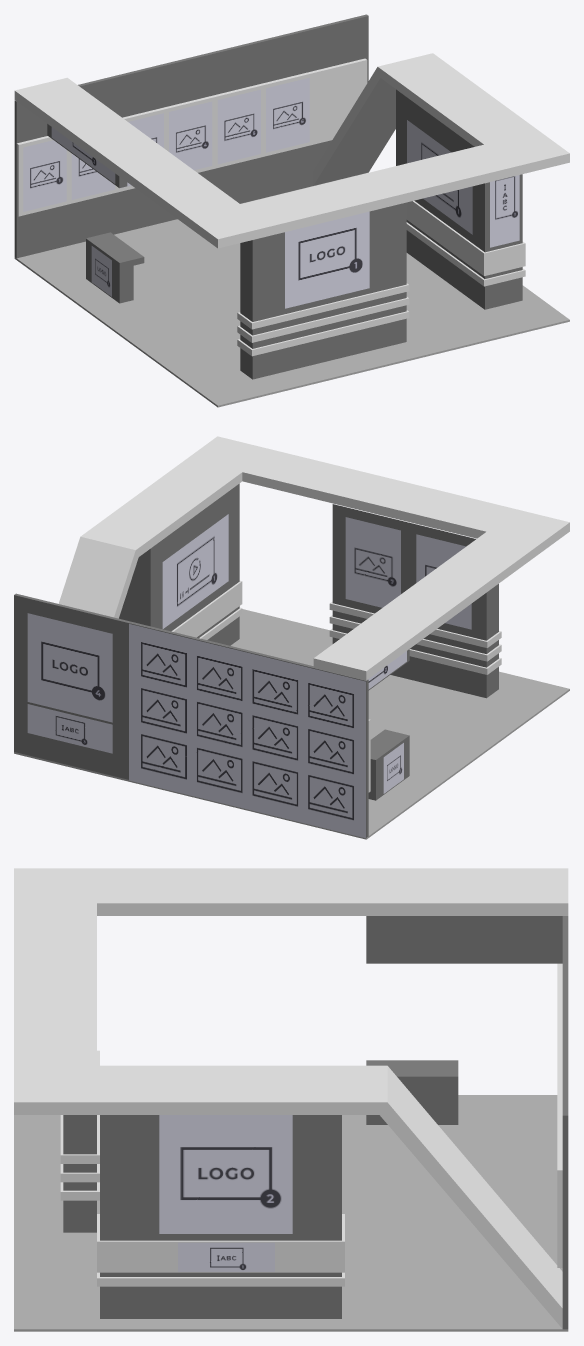
File: stant65.gltf
3 views of the same model, one above another, from view 1: azimuth 30°, elevation 25°; view 2: azimuth 150°, elevation 25°; view 3: azimuth 270°, elevation 25° (orthographic). The views are drawn at different scales.
Parts seen in each view (by area): view 1: modrenk1, modrenk2, modzemin, modlogo1, moddikgorsel6, moddikgorsel5, moddikgorsel1, moddikgorsel4, modvideo1, moddikyazi1, moddikgorsel2, modlogo3 (+2 smaller); view 2: modrenk1, modgenisgorsel, modrenk2, modzemin, modlogo4, modvideo1, moddikgorsel7, modyazi3, moddikgorsel8, modlogo3; view 3: modrenk1, modzemin, modrenk2, modlogo2, modyazi1.
Part boxes in pixels (x1=…): modrenk1: x1=14, y1=53, x2=569, y2=356; modrenk2: x1=14, y1=14, x2=522, y2=379; modzemin: x1=14, y1=172, x2=569, y2=407; modlogo1: x1=285, y1=211, x2=369, y2=308; moddikgorsel6: x1=266, y1=77, x2=309, y2=152; moddikgorsel5: x1=217, y1=89, x2=260, y2=164; moddikgorsel1: x1=23, y1=140, x2=66, y2=211; moddikgorsel4: x1=169, y1=101, x2=212, y2=170; modvideo1: x1=407, y1=120, x2=472, y2=234; moddikyazi1: x1=490, y1=175, x2=519, y2=247; moddikgorsel2: x1=71, y1=153, x2=115, y2=199; modlogo3: x1=91, y1=246, x2=111, y2=296; modrenk1: x1=58, y1=436, x2=569, y2=792; modgenisgorsel: x1=129, y1=624, x2=365, y2=838; modrenk2: x1=14, y1=483, x2=498, y2=837; modzemin: x1=14, y1=609, x2=569, y2=839; modlogo4: x1=27, y1=613, x2=112, y2=722; modvideo1: x1=162, y1=514, x2=228, y2=628; moddikgorsel7: x1=345, y1=517, x2=400, y2=607; modyazi3: x1=27, y1=704, x2=112, y2=753; moddikgorsel8: x1=416, y1=534, x2=471, y2=629; modlogo3: x1=383, y1=743, x2=403, y2=793; modrenk1: x1=14, y1=868, x2=568, y2=1328; modzemin: x1=14, y1=1095, x2=568, y2=1331; modrenk2: x1=63, y1=916, x2=568, y2=1329; modlogo2: x1=159, y1=1115, x2=292, y2=1233; modyazi1: x1=178, y1=1242, x2=274, y2=1271.
Bounding box in the file's own units: 1 × 0.4566 × 1.
Materials: 21 (18 with a texture image).
